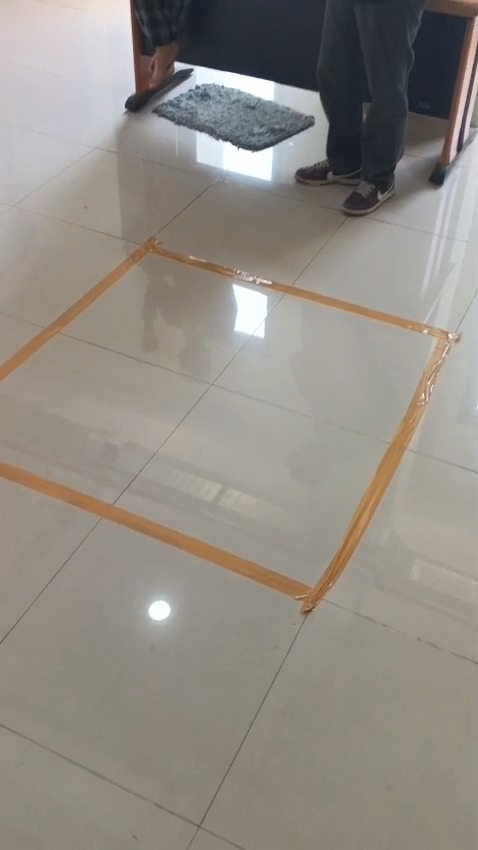floor marking: (0, 238, 460, 615)
